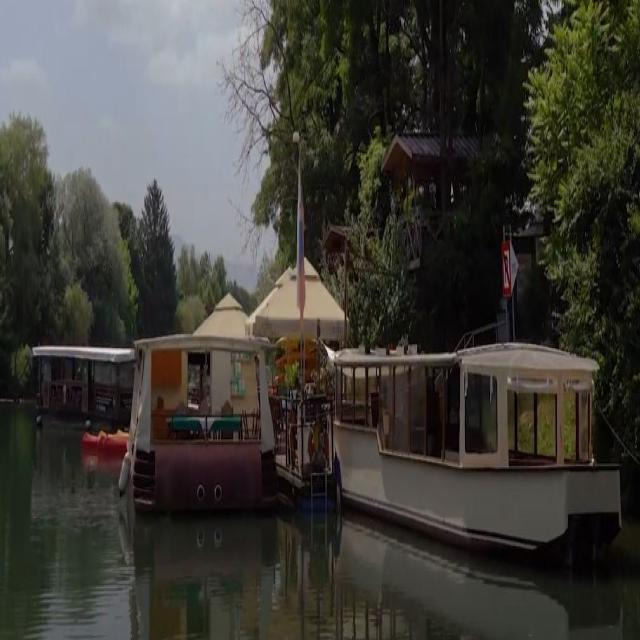boat: (326, 342, 630, 584)
